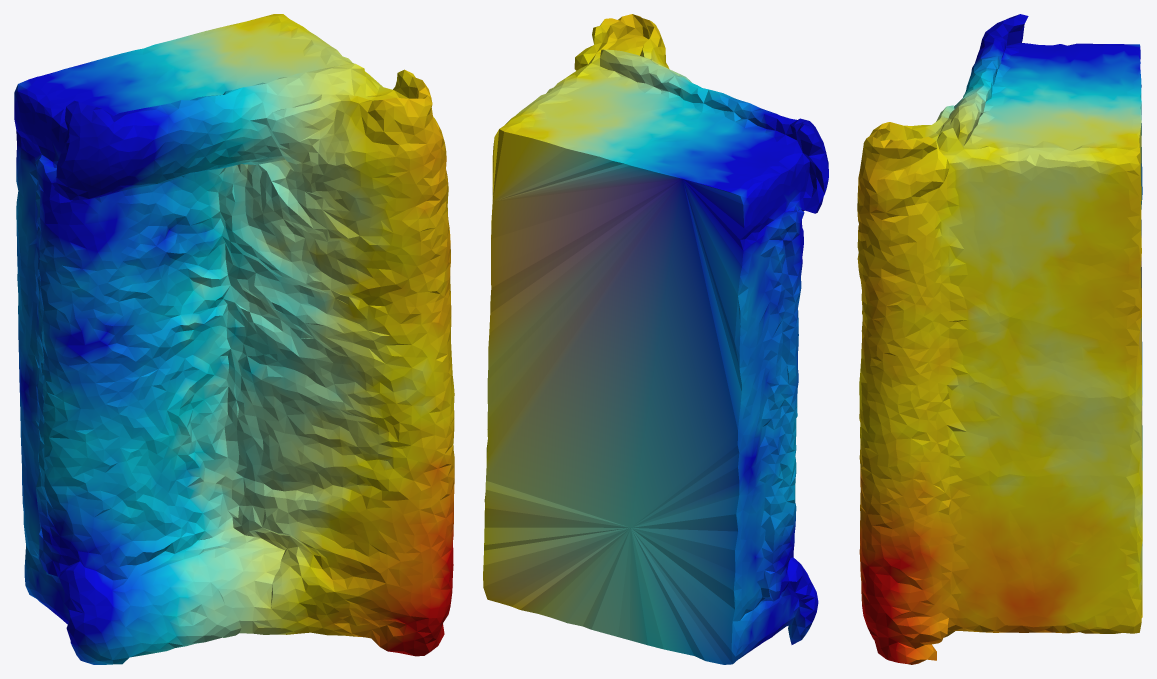
Rendered from sofa_fem_poisson.glb.
3 views of the same model, side by side, from view 1: azimuth 30°, elevation 25°; view 2: azimuth 150°, elevation 25°; view 3: azimuth 270°, elevation 25° (orthographic). The views are drawn at different scales.
Parts seen in each view (by area): view 1: Sofa.obj; view 2: Sofa.obj; view 3: Sofa.obj.
Part boxes in pixels (x1,y1,x2,y2): Sofa.obj: (14, 14, 454, 664); Sofa.obj: (483, 14, 828, 664); Sofa.obj: (857, 14, 1142, 664).
Bounding box in the file's own units: 0.993 × 1.64 × 0.8105.
